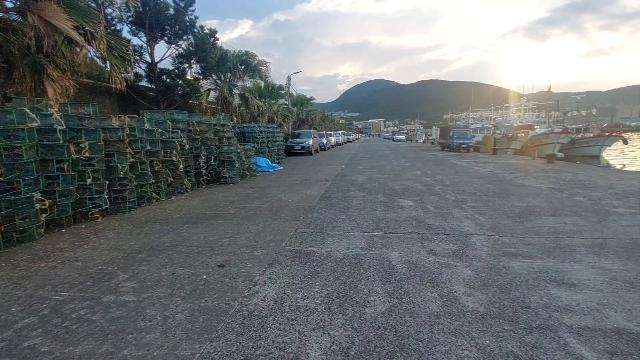pollute: (254, 156, 284, 173)
